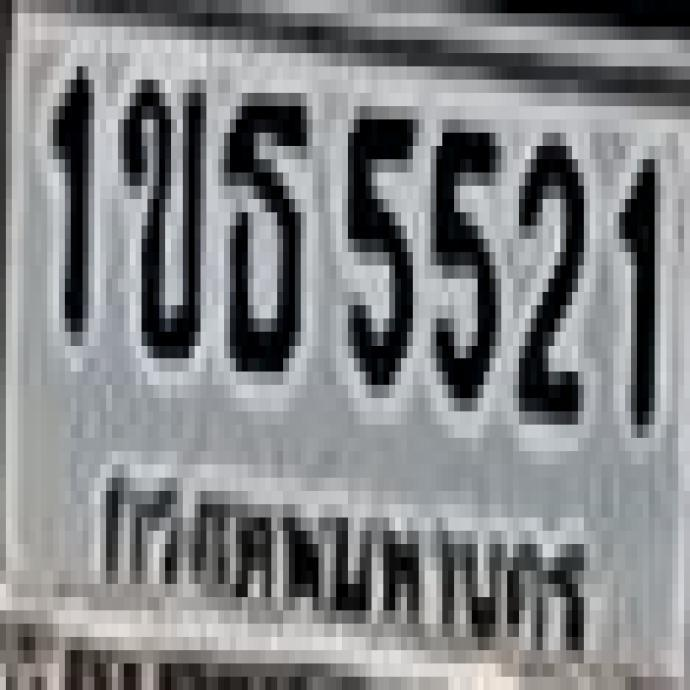1: (613, 147, 653, 422), (47, 58, 85, 327)
2: (512, 123, 578, 410)
5: (427, 109, 495, 396), (342, 96, 410, 382)
A02: (115, 66, 216, 369)
A24: (219, 80, 304, 361)
BKK: (87, 449, 597, 672)
